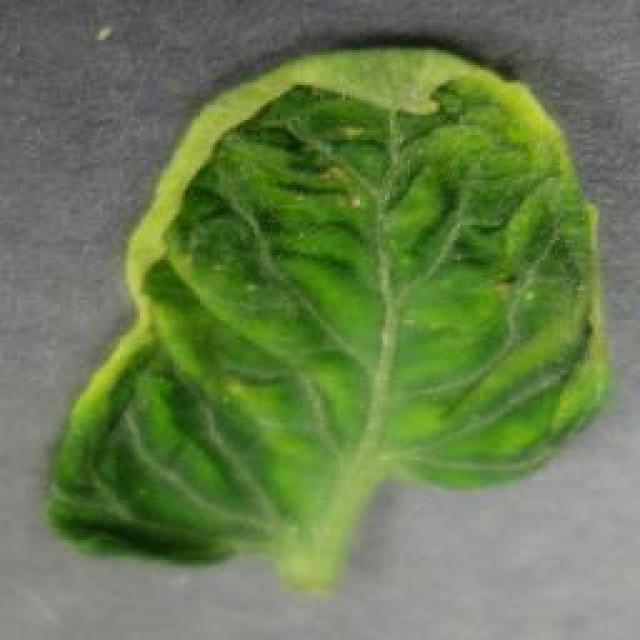Tomato yellow virus leaf: (40, 45, 610, 572)
